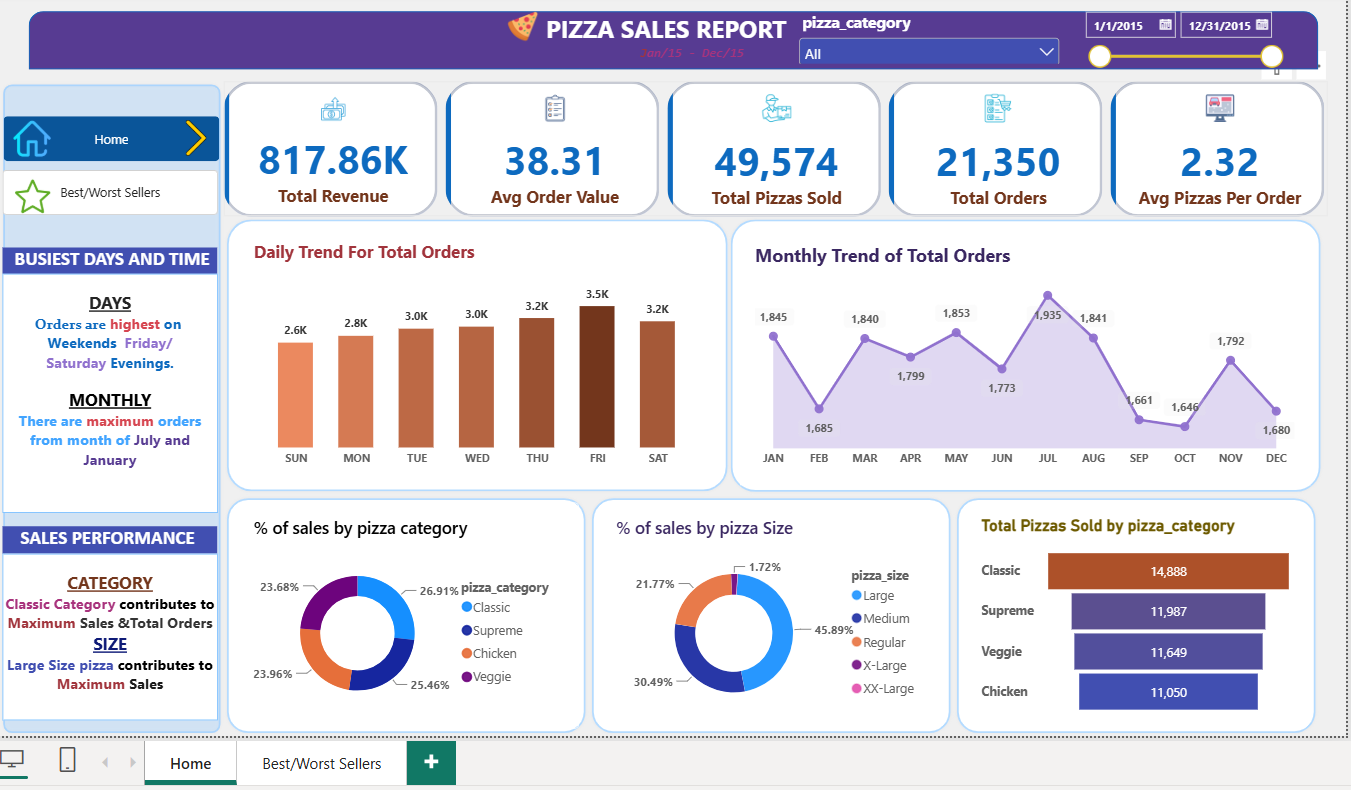

This screenshot's page, from the dashboard's own definition file:
{"tool":"powerbi","page":{"name":"Home","canvas":[1500,820],"ordinal":0},"visuals":[{"type":"cardVisual","fields":{"Data":["pizza_sales.Total Revenue","pizza_sales.Avg Order Value","pizza_sales.Total Pizzas Sold","pizza_sales.Total Orders","pizza_sales.Avg Pizzas Per Order"]},"box":[249.3,90.1,1230,151],"z":0},{"type":"shape","box":[32.4,12.7,1436.6,64.8],"z":1000},{"type":"textbox","box":[561.2,13.9,362,62],"z":2000},{"type":"textbox","box":[701.4,49.3,138,25.4],"z":3000},{"type":"image","box":[561.2,12.5,42.3,33.8],"z":4000},{"type":"shape","box":[249.3,240.9,565,310],"z":5000},{"type":"columnChart","title":"Daily Trend For Total Orders ","fields":{"Category":["pizza_sales.Order Day"],"Y":["pizza_sales.Total Orders"]},"box":[266,252.1,532,288.3],"z":6000},{"type":"shape","box":[810.5,240.9,664.3,310.6],"z":7000},{"type":"areaChart","title":"Monthly Trend of Total Orders","fields":{"Category":["pizza_sales.Order Month"],"Y":["pizza_sales.Total Orders"]},"box":[824.5,254.9,635.1,285.5],"z":8000},{"type":"shape","box":[655.9,551.5,406.7,268.8],"z":9000},{"type":"shape","box":[249.3,551.5,406.7,268.8],"z":10000},{"type":"shape","box":[1062.6,551.5,406.7,268.8],"z":11000},{"type":"donutChart","title":"% of sales by pizza category","fields":{"Category":["pizza_sales.pizza_category"],"Y":["pizza_sales.Total Revenue"]},"box":[266,559.9,378.8,252.1],"z":12000},{"type":"donutChart","title":"% of sales by pizza Size","fields":{"Category":["pizza_sales.pizza_size"],"Y":["pizza_sales.Total Revenue"]},"box":[669.9,559.9,378.8,252.1],"z":13000},{"type":"funnel","fields":{"Category":["pizza_sales.pizza_category"],"Y":["pizza_sales.Total Pizzas Sold"]},"box":[1076.5,559.9,381.6,252.1],"z":14000},{"type":"shape","box":[0,90.5,249.3,729.8],"z":15000},{"type":"textbox","box":[2.8,275.7,239.5,29.2],"z":16000},{"type":"textbox","box":[2.8,305,240,266],"z":17000},{"type":"textbox","box":[2.8,586.3,239.5,30.6],"z":18000},{"type":"textbox","box":[2.8,617,240,185.2],"z":19000},{"type":"slicer","fields":{"Values":["pizza_sales.pizza_category"]},"box":[885.7,12.5,299.4,58.5],"z":20000},{"type":"slicer","fields":{"Values":["pizza_sales.order_date"]},"box":[1201.9,8.4,231.2,75.2],"z":21000},{"type":"pageNavigator","box":[4.5,129.9,240,50],"z":21001},{"type":"pageNavigator","box":[3,189.6,240,50],"z":21002},{"type":"image","box":[147.8,134.3,141.8,40.3],"z":21003},{"type":"image","box":[7.5,134.3,58.2,41.8],"z":21004},{"type":"image","box":[0,198.5,73.1,38.8],"z":21005}]}

Visuals, with their boxes on the page's 1500x820 design canvas (x1, y1, x2, y2). These are canvas units, not pixel positions in the 1351x790 screenshot, which may show the page scaled, cropped or inside an application window:
cardVisual - pizza_sales.Total Revenue x pizza_sales.Avg Order Value: 249:90:1479:241
shape: 32:13:1469:78
textbox: 561:14:923:76
textbox: 701:49:839:75
image: 561:12:604:46
shape: 249:241:814:551
"Daily Trend For Total Orders " columnChart: 266:252:798:540
shape: 810:241:1475:552
"Monthly Trend of Total Orders" areaChart: 824:255:1460:540
shape: 656:552:1063:820
shape: 249:552:656:820
shape: 1063:552:1469:820
"% of sales by pizza category" donutChart: 266:560:645:812
"% of sales by pizza Size" donutChart: 670:560:1049:812
funnel - pizza_sales.pizza_category x pizza_sales.Total Pizzas Sold: 1076:560:1458:812
shape: 0:90:249:820
textbox: 3:276:242:305
textbox: 3:305:243:571
textbox: 3:586:242:617
textbox: 3:617:243:802
slicer - pizza_sales.pizza_category: 886:12:1185:71
slicer - pizza_sales.order_date: 1202:8:1433:84
pageNavigator: 4:130:244:180
pageNavigator: 3:190:243:240
image: 148:134:290:175
image: 8:134:66:176
image: 0:198:73:237
